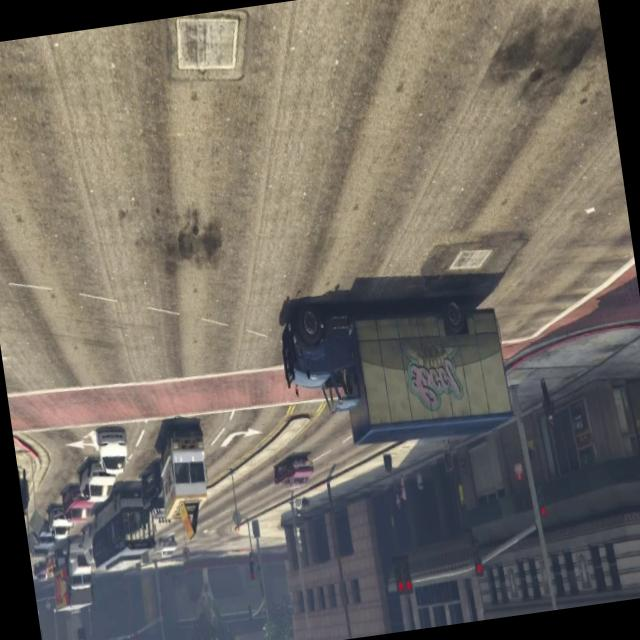Red-Signal: (388, 549, 419, 600), (531, 470, 555, 529), (467, 536, 491, 586)
